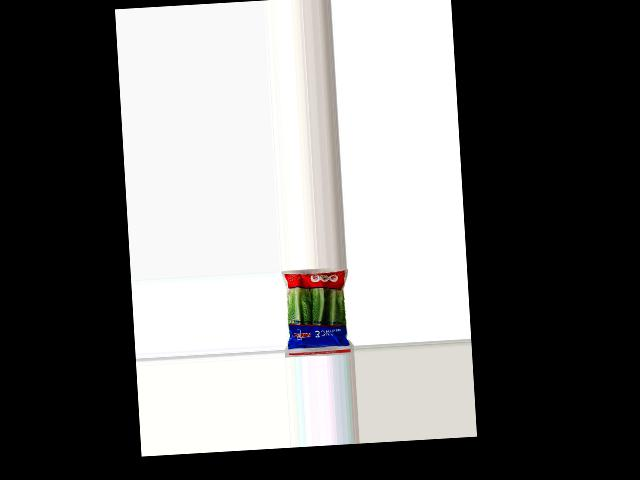lettuce: (282, 267, 350, 351)
